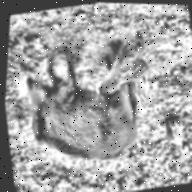boar: (1, 33, 152, 182), (90, 35, 159, 117)
